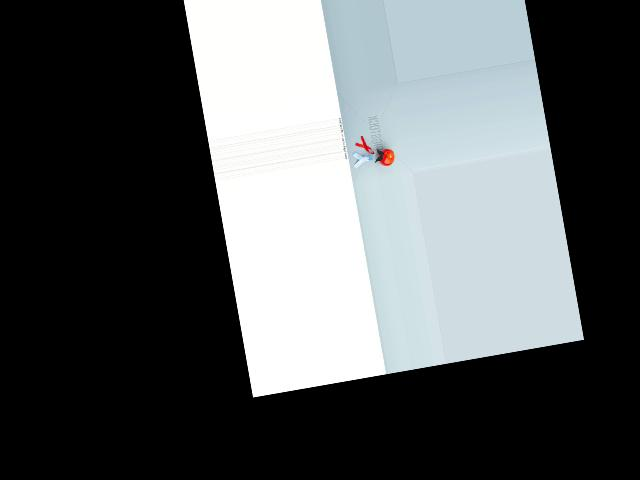tomato: (376, 147, 395, 166)
